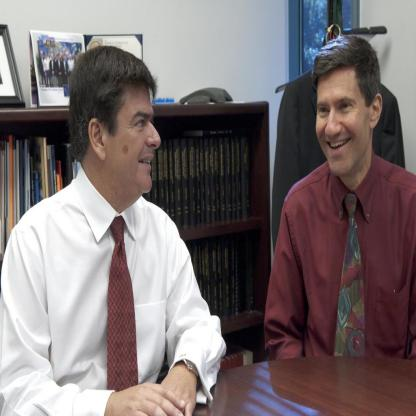book: (140, 126, 256, 230), (15, 136, 81, 233), (184, 235, 256, 320), (0, 140, 12, 266), (216, 345, 252, 372), (10, 136, 12, 236)
